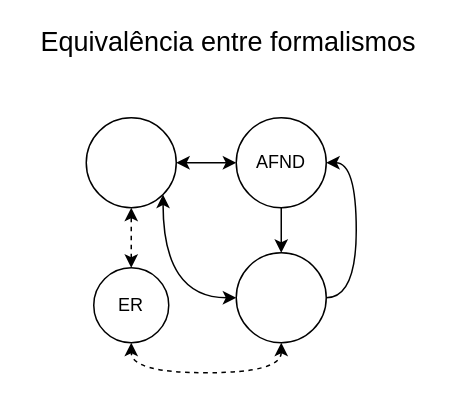
Image size: 456x399. Some labels were removed from this diagram. Each missing label, with the centre of its shape:
AFD: point 280,297
Λ-AFND: point 130,162
